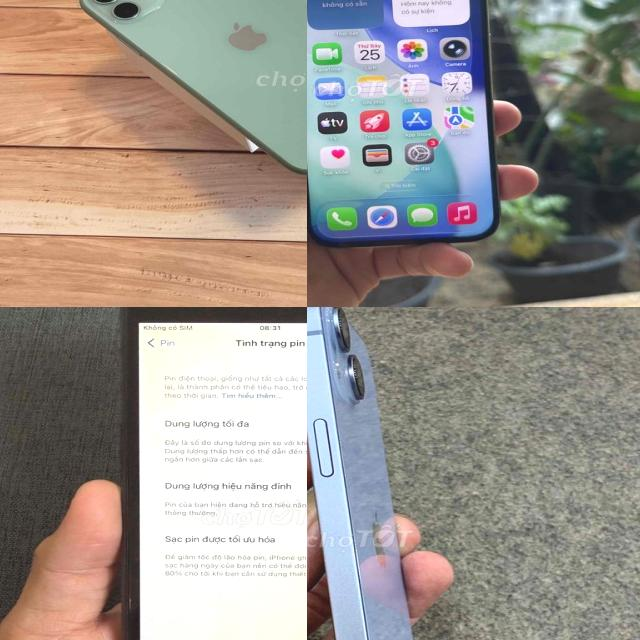gen_11: (75, 0, 307, 179)
gen_14: (307, 307, 439, 640)
gen_15: (307, 0, 520, 270)
gen_6: (122, 307, 307, 640)
